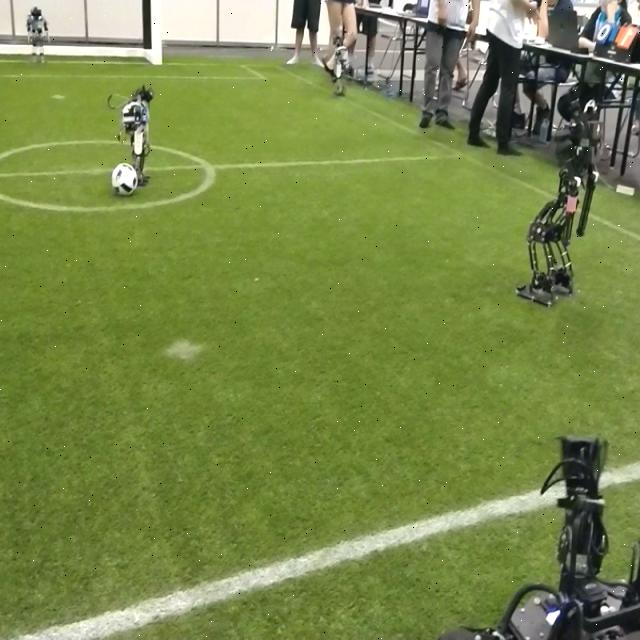ball: (110, 163, 138, 196)
goalpost: (150, 0, 164, 63)
